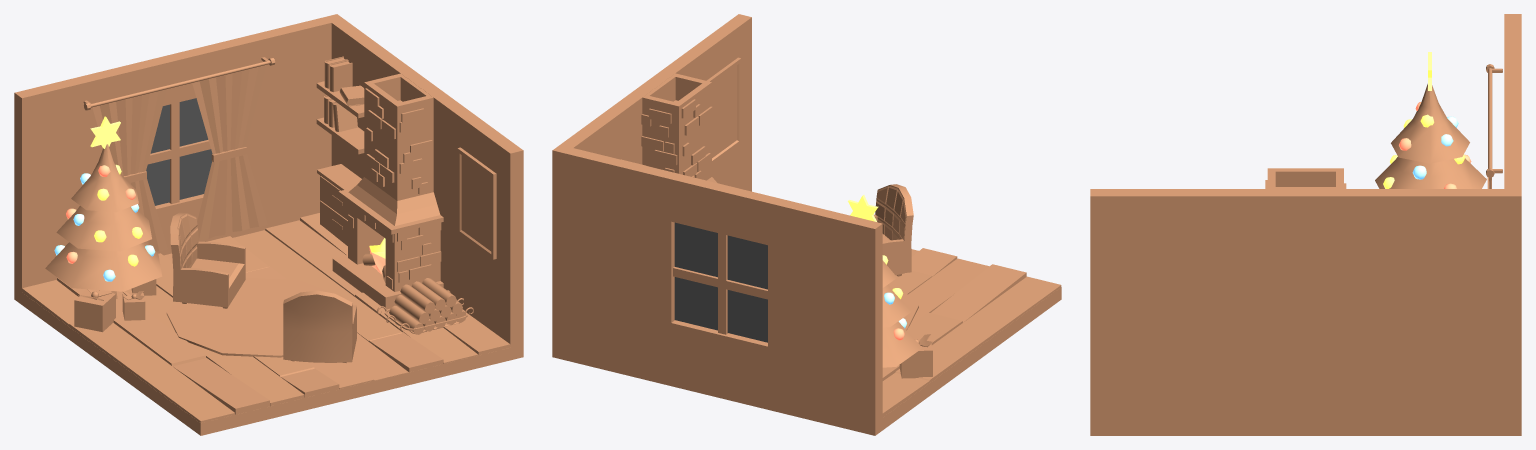
Rendered from Pair2_BASE_colorchange.glb.
3 renders of one model, left to right at view 1: azimuth 30°, elevation 25°; view 2: azimuth 150°, elevation 25°; view 3: azimuth 270°, elevation 25°, orthographic. The views are drawn at different scales.
Parts seen in each view (by area): view 1: Room, Floor, Fireplace, Christmas_tree, Curtain2, Rug, Chair1, Chair2, Curtain1, Glass, Picture, Wood (+9 smaller); view 2: Room, Floor, Glass, Fireplace, Christmas_tree, Chair2, Picture, Window, Present1; view 3: Room, Christmas_tree, Fireplace, Curtain_rod_Material #246_0.
Part boxes in pixels (x1=…): Room: x1=14, y1=14, x2=523, y2=435; Floor: x1=22, y1=213, x2=510, y2=422; Fireplace: x1=332, y1=73, x2=443, y2=309; Christmas_tree: x1=45, y1=116, x2=162, y2=298; Curtain2: x1=192, y1=64, x2=267, y2=240; Rug: x1=166, y1=277, x2=343, y2=357; Chair1: x1=170, y1=212, x2=245, y2=308; Chair2: x1=283, y1=290, x2=356, y2=362; Curtain1: x1=92, y1=89, x2=167, y2=251; Glass: x1=146, y1=98, x2=212, y2=205; Picture: x1=457, y1=147, x2=496, y2=259; Wood: x1=389, y1=278, x2=466, y2=334; Room: x1=552, y1=14, x2=1061, y2=435; Floor: x1=882, y1=248, x2=1061, y2=417; Glass: x1=674, y1=222, x2=767, y2=342; Fireplace: x1=641, y1=73, x2=716, y2=182; Christmas_tree: x1=848, y1=195, x2=922, y2=367; Chair2: x1=874, y1=184, x2=913, y2=276; Picture: x1=706, y1=57, x2=741, y2=164; Window: x1=673, y1=233, x2=767, y2=334; Present1: x1=899, y1=334, x2=932, y2=378; Room: x1=1090, y1=14, x2=1521, y2=435; Christmas_tree: x1=1375, y1=52, x2=1486, y2=188; Fireplace: x1=1265, y1=168, x2=1346, y2=188; Curtain_rod_Material #246_0: x1=1486, y1=64, x2=1502, y2=177.
Size of the model in its own units: 400 by 245 by 400.
